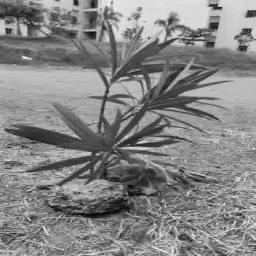OLEANDER: (5, 7, 236, 185)
